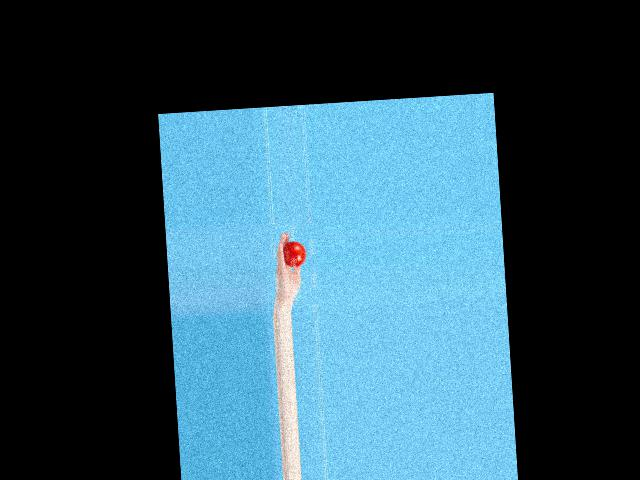tomato: (283, 240, 306, 267)
